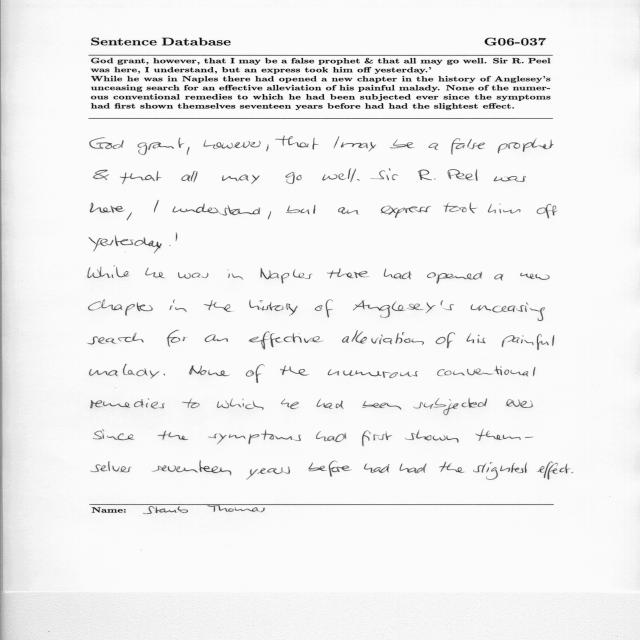word: (353, 300, 454, 318), (471, 302, 545, 321), (249, 332, 324, 350), (89, 236, 162, 254), (208, 430, 301, 444), (414, 399, 487, 416), (342, 330, 424, 345), (152, 461, 231, 476), (172, 204, 260, 216), (88, 300, 153, 316), (90, 364, 159, 379), (437, 366, 536, 376), (473, 462, 527, 480), (498, 139, 554, 154), (502, 334, 554, 350), (138, 138, 185, 155), (249, 300, 298, 316), (261, 268, 313, 283), (91, 399, 164, 409), (328, 370, 418, 378), (405, 430, 459, 443), (476, 429, 534, 441), (309, 461, 352, 477), (88, 333, 144, 345), (246, 466, 290, 480), (427, 272, 482, 283), (381, 206, 431, 218), (538, 462, 571, 480), (451, 138, 485, 155), (275, 136, 319, 149), (217, 398, 263, 410), (120, 171, 161, 184), (203, 140, 261, 149), (88, 266, 129, 278), (91, 461, 131, 473), (189, 366, 230, 377), (93, 429, 134, 440), (362, 431, 392, 446), (322, 169, 356, 182), (327, 268, 369, 278), (90, 137, 124, 149), (222, 174, 259, 184), (448, 169, 478, 181), (363, 401, 402, 410), (341, 142, 376, 152), (90, 203, 125, 213), (246, 364, 264, 383), (444, 203, 478, 213), (204, 300, 232, 312), (488, 204, 521, 214), (316, 431, 346, 442), (371, 169, 398, 181), (315, 300, 333, 318), (436, 332, 456, 348), (167, 330, 185, 347), (384, 269, 411, 280), (280, 366, 309, 376), (439, 462, 465, 473), (537, 204, 557, 218), (286, 205, 316, 214), (317, 399, 344, 409), (158, 431, 188, 440), (400, 464, 427, 474), (506, 399, 533, 408), (364, 464, 389, 473), (390, 140, 414, 149), (178, 272, 208, 279), (520, 273, 550, 280), (285, 172, 302, 184), (170, 300, 187, 312), (145, 268, 165, 278), (418, 170, 436, 181), (494, 176, 526, 182), (181, 171, 198, 182), (205, 334, 228, 342), (281, 399, 299, 409), (467, 334, 486, 343), (338, 207, 359, 215), (182, 399, 200, 408), (94, 170, 109, 180), (228, 274, 243, 280), (154, 200, 159, 213), (429, 143, 438, 150), (334, 137, 339, 149), (494, 274, 504, 280), (127, 213, 132, 221), (187, 147, 190, 155), (268, 212, 271, 220), (266, 146, 269, 151), (176, 233, 177, 241), (358, 179, 360, 181), (164, 374, 165, 376), (571, 472, 573, 473), (170, 245, 171, 246)
